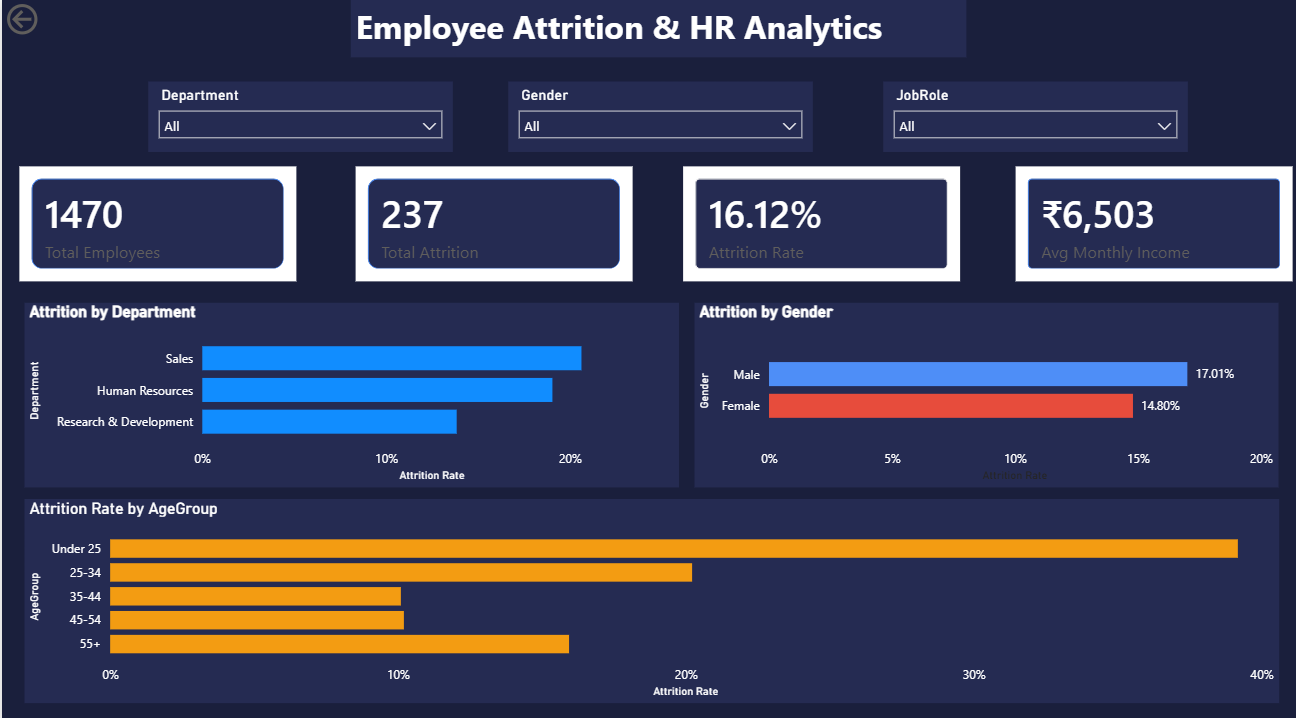

This screenshot's page, from the dashboard's own definition file:
{"tool":"powerbi","page":{"name":"Overview ","canvas":[1280,720],"ordinal":0},"visuals":[{"type":"cardVisual","fields":{"Data":["hr_analytics hr_data.Total Employees"]},"box":[12.1,160.5,283.5,123.1],"z":0},{"type":"cardVisual","fields":{"Data":["hr_analytics hr_data.Total Attrition"]},"box":[345,160.5,283.5,123.1],"z":1000},{"type":"cardVisual","fields":{"Data":["hr_analytics hr_data.Attrition Rate"]},"box":[668.4,160.5,283.5,123.1],"z":2000},{"type":"cardVisual","fields":{"Data":["hr_analytics hr_data.Avg Monthly Income Display"]},"box":[996.5,160.5,283.5,123.1],"z":3000},{"type":"clusteredBarChart","title":" Attrition by Department","fields":{"Category":["hr_analytics hr_data.Department"],"Y":["hr_analytics hr_data.Attrition Rate"]},"box":[21.7,300.4,646.7,182.2],"z":4000},{"type":"textbox","box":[345,0,608,57.9],"z":5000},{"type":"clusteredBarChart","title":"Attrition by Gender","fields":{"Category":["hr_analytics hr_data.Gender"],"Y":["hr_analytics hr_data.Attrition Rate"]},"box":[684.1,300.4,576.7,182.2],"z":6000},{"type":"clusteredBarChart","fields":{"Y":["hr_analytics hr_data.Attrition Rate"],"Category":["hr_analytics hr_data.AgeGroup"]},"box":[21.7,493.4,1239,201.5],"z":7000},{"type":"actionButton","box":[0,0,100,40],"z":8000},{"type":"slicer","fields":{"Values":["hr_analytics hr_data.Department"]},"box":[144.8,82,300.4,70],"z":9000},{"type":"slicer","fields":{"Values":["hr_analytics hr_data.JobRole"]},"box":[869.8,82,300.4,70],"z":10000},{"type":"slicer","fields":{"Values":["hr_analytics hr_data.Gender"]},"box":[499.5,82,300.4,70],"z":11000}]}

Visuals, with their boxes in screenshot pixels (x1, y1, x2, y2), scaled from the page's 1280x720 canvas onto the 1296x718 screenshot:
cardVisual - hr_analytics hr_data.Total Employees: 12:160:299:283
cardVisual - hr_analytics hr_data.Total Attrition: 349:160:636:283
cardVisual - hr_analytics hr_data.Attrition Rate: 677:160:964:283
cardVisual - hr_analytics hr_data.Avg Monthly Income Display: 1009:160:1295:283
" Attrition by Department" clusteredBarChart: 22:300:677:481
textbox: 349:0:965:58
"Attrition by Gender" clusteredBarChart: 693:300:1277:481
clusteredBarChart - hr_analytics hr_data.Attrition Rate x hr_analytics hr_data.AgeGroup: 22:492:1276:693
actionButton: 0:0:101:40
slicer - hr_analytics hr_data.Department: 147:82:451:152
slicer - hr_analytics hr_data.JobRole: 881:82:1185:152
slicer - hr_analytics hr_data.Gender: 506:82:810:152
